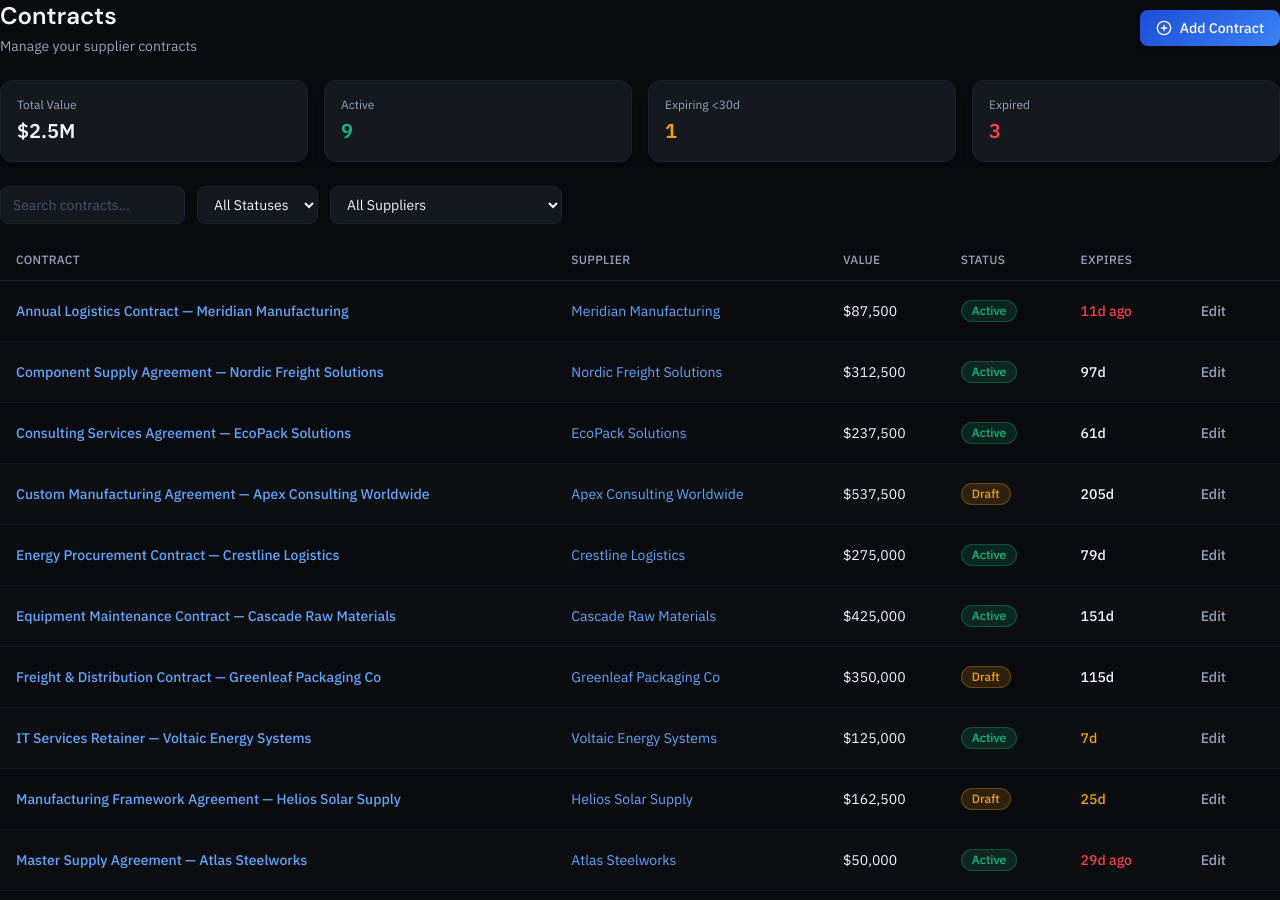
Contracts › opens the ContractSlideOver when a contract title is clicked
Click the button "Master Supply Agreement — Atlas Steelworks" at x=162, y=860, box [16,850,307,870]
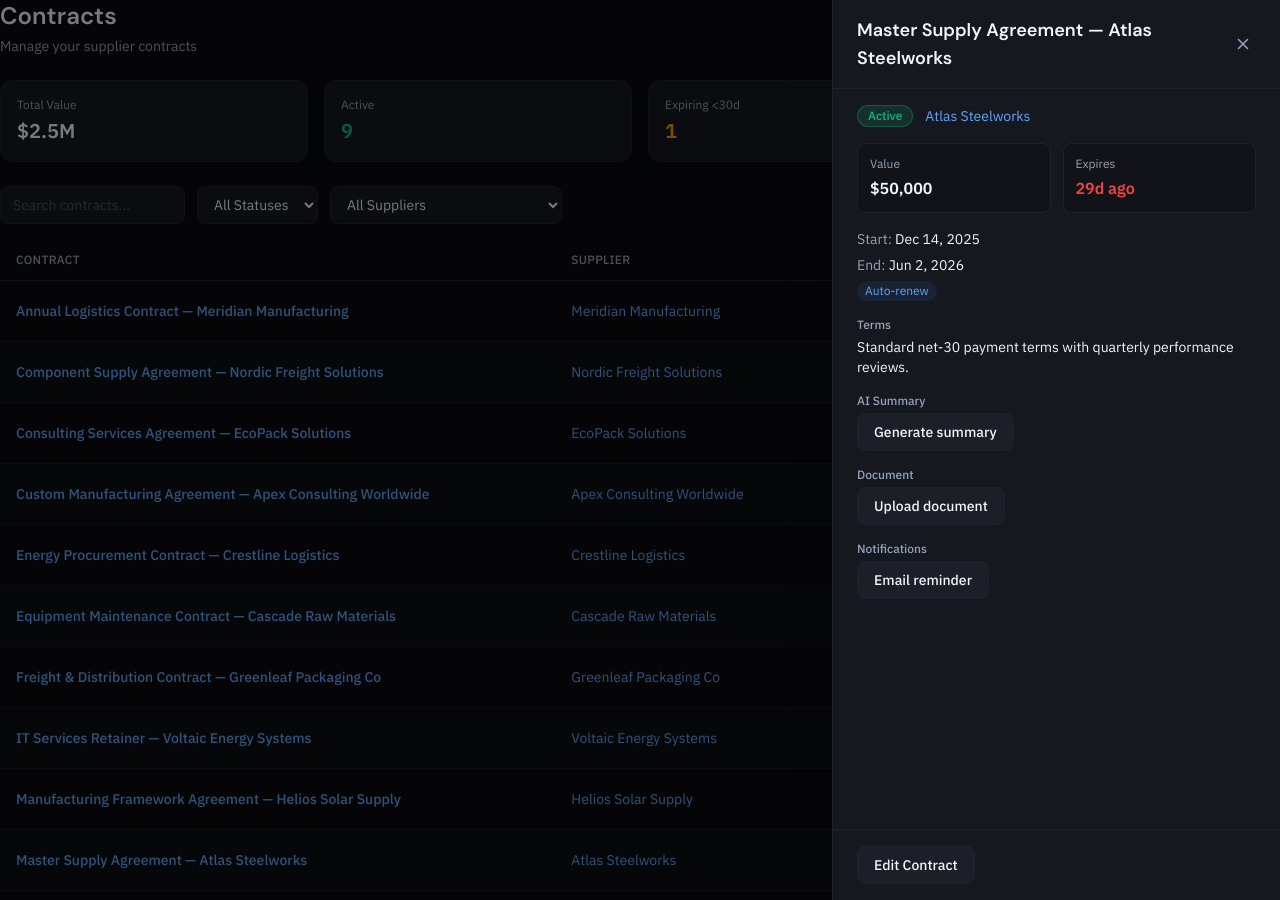
Result: the heading "Master Supply Agreement — Atlas Steelworks" is shown at [857,18,1152,70]
